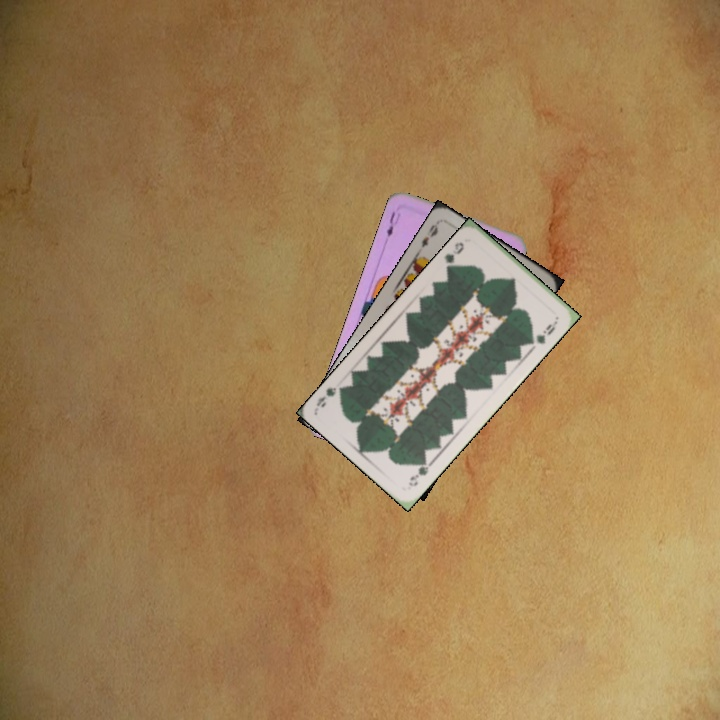E9: (417, 218, 442, 251)
EU: (382, 207, 398, 239)
G9: (405, 456, 436, 489), (440, 238, 467, 272)
